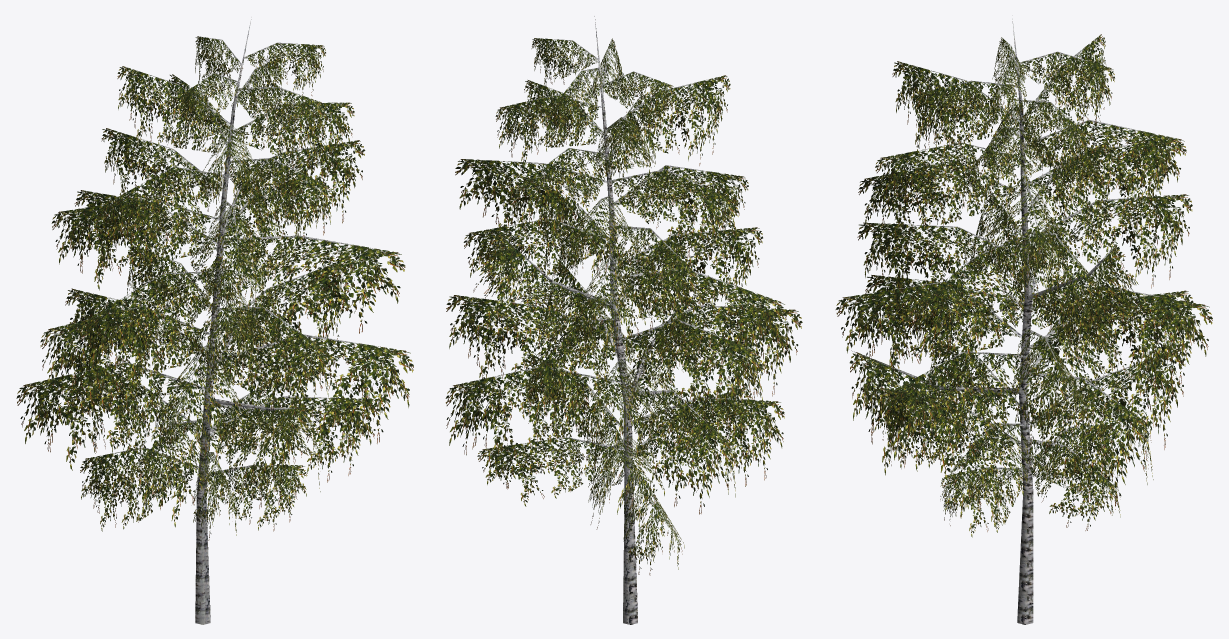
Rendered from birch_04.glb.
3 views of the same model, side by side, from view 1: azimuth 30°, elevation 25°; view 2: azimuth 150°, elevation 25°; view 3: azimuth 270°, elevation 25° (orthographic). The views are drawn at different scales.
Parts seen in each view (by area): view 1: Birch_04; view 2: Birch_04; view 3: Birch_04.
Part boxes in pixels (box(x1,y1,x2,y2)): Birch_04: box(16, 17, 413, 624); Birch_04: box(445, 16, 802, 624); Birch_04: box(835, 15, 1212, 624).
Bounding box in the file's own units: 3.02 × 5.39 × 2.97.
Materials: 2 (2 with a texture image).
